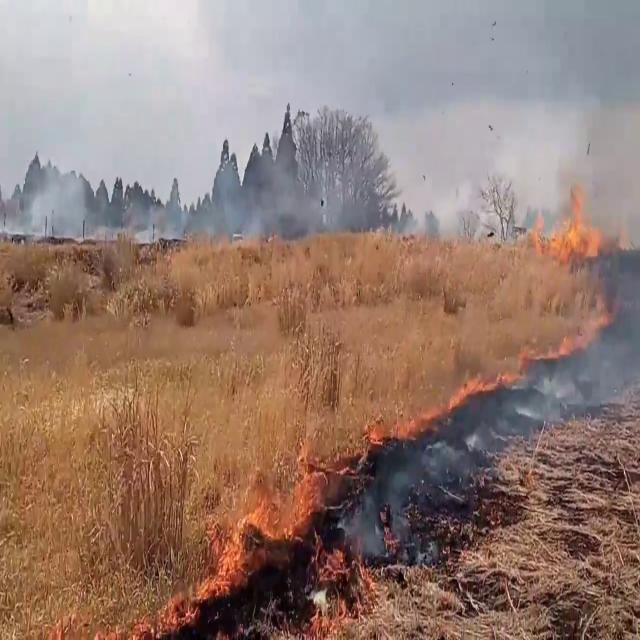Fire: (244, 426, 330, 550), (153, 528, 249, 632), (534, 176, 608, 265)
Smoke: (208, 140, 342, 240), (12, 155, 97, 245)
